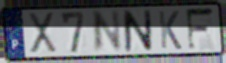7: (59, 11, 87, 54)
F: (185, 6, 217, 53)
K: (157, 9, 183, 51)
N: (91, 9, 124, 55), (122, 8, 154, 53)
X: (27, 11, 59, 56)
